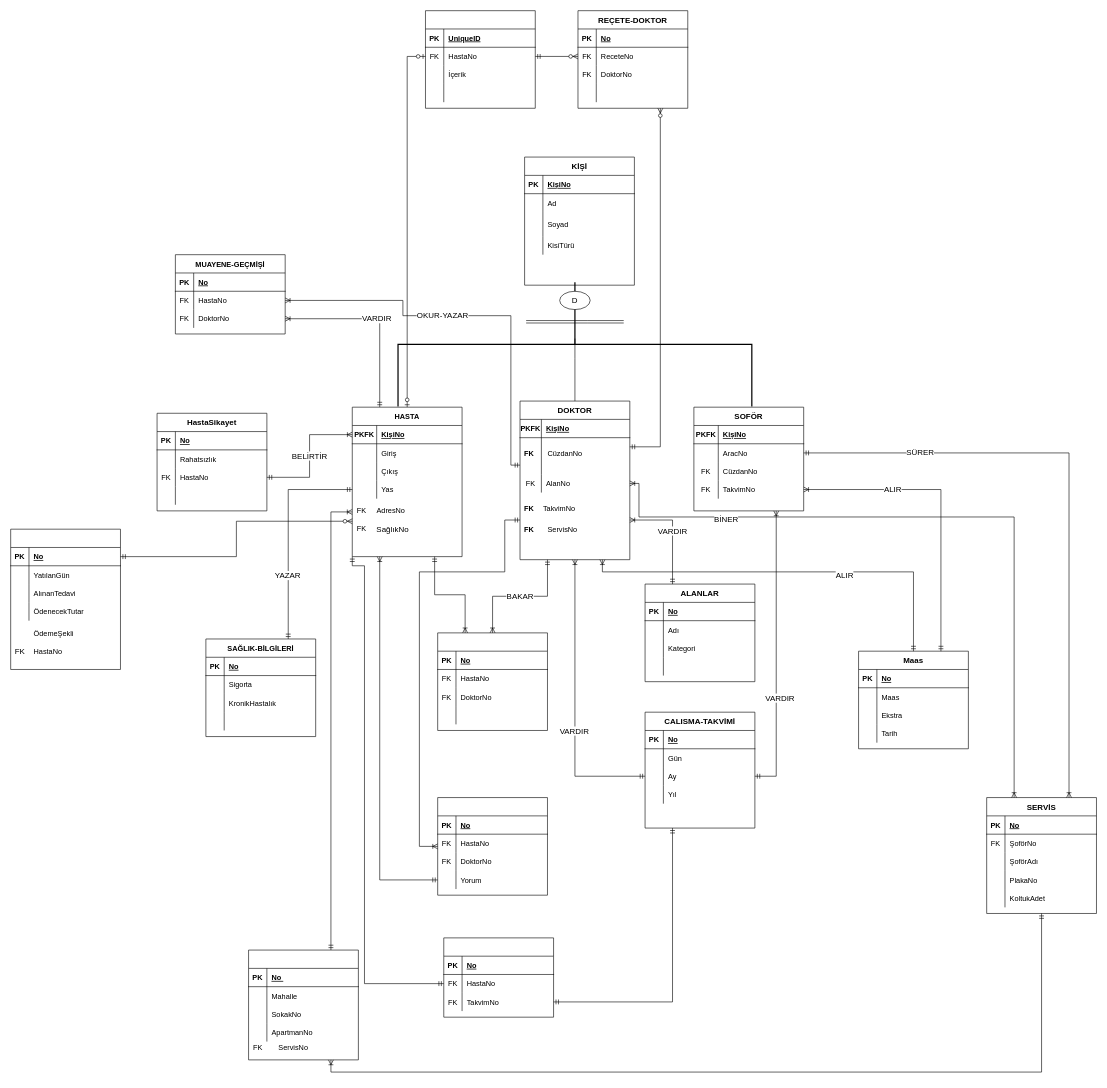
The diagram is 1107 pixels wide and 1088 high, and some of its shapes have lost their labels. Here are the shapes that lost their labels. From the top down, the box of each, then its label:
(425, 10, 535, 108): REÇETE
(10, 529, 120, 669): ÜCRET
(437, 632, 547, 730): DOKTOR-HASTA
(437, 797, 547, 895): GERİ-BİLDİRİM
(443, 937, 554, 1017): RANDEVU
(248, 949, 358, 1060): ADRES
